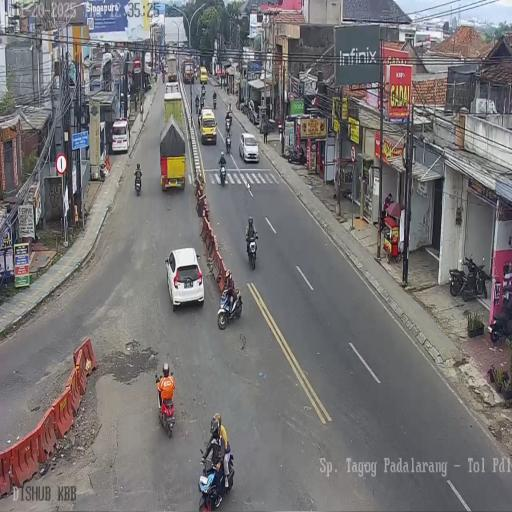car: (166, 247, 204, 311), (110, 118, 130, 154), (199, 107, 217, 145), (239, 132, 259, 163), (199, 66, 208, 84)
motorcycle: (198, 443, 235, 511), (155, 376, 176, 438), (461, 255, 488, 302), (489, 288, 512, 343), (216, 286, 243, 330), (449, 267, 466, 297), (246, 232, 258, 271), (286, 143, 306, 166), (218, 159, 227, 186), (134, 170, 142, 196), (240, 98, 249, 116), (225, 132, 232, 154), (194, 94, 200, 114), (200, 85, 206, 101), (199, 99, 204, 116), (213, 95, 217, 109), (162, 72, 165, 83), (154, 74, 157, 84)
truck: (159, 115, 187, 193), (164, 80, 182, 126), (182, 59, 195, 84), (166, 54, 177, 83)
